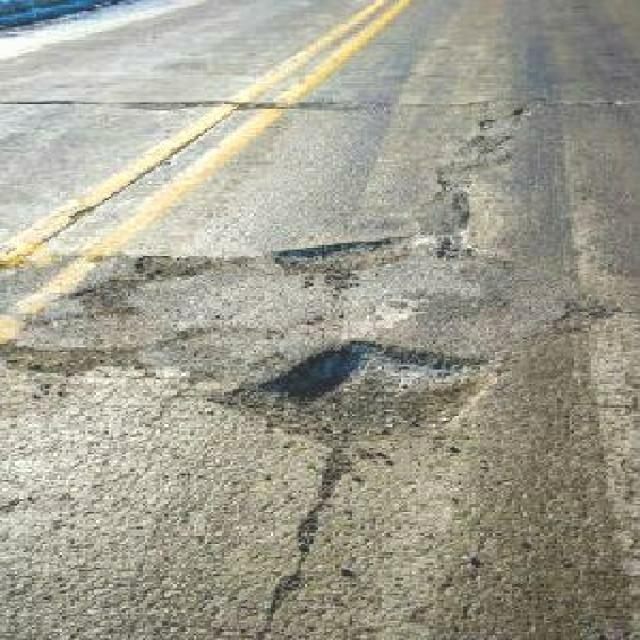Pothole: (215, 338, 503, 450), (0, 336, 145, 379), (265, 234, 414, 274), (128, 250, 224, 278)
